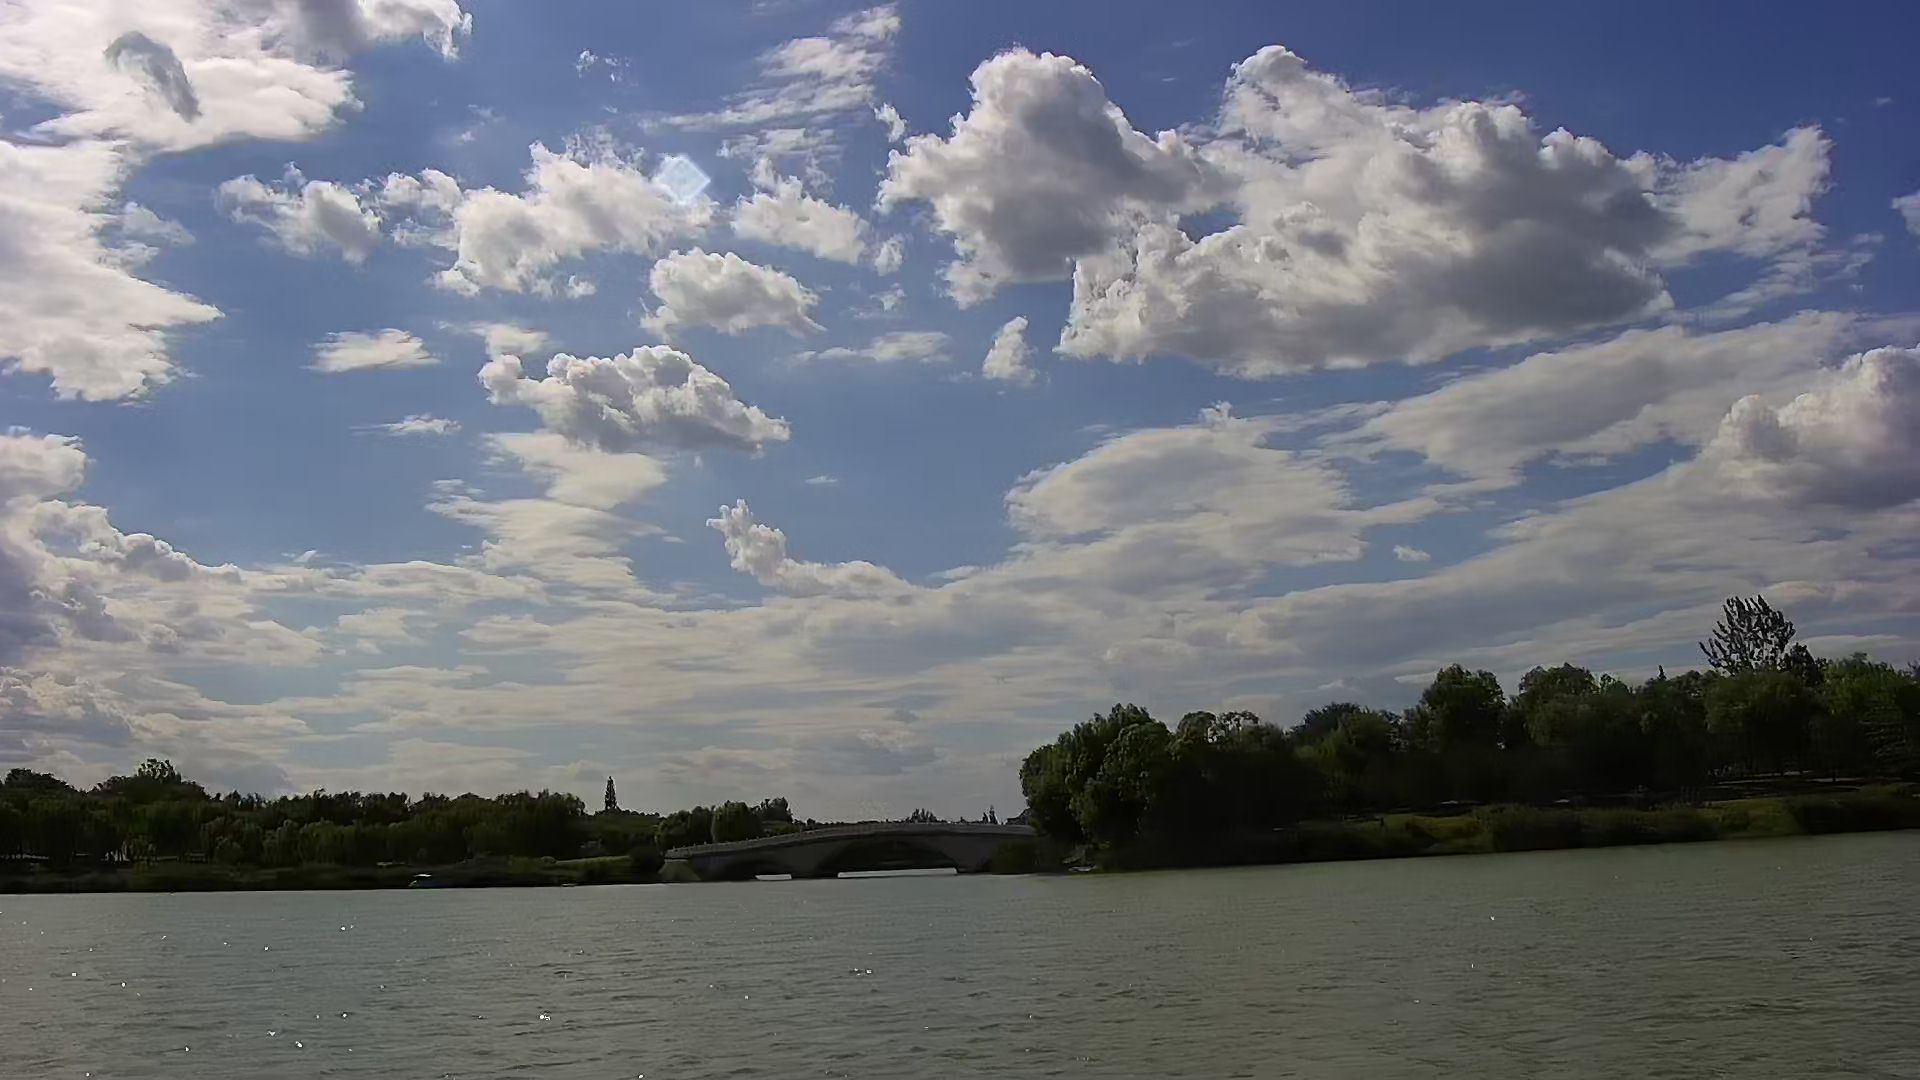bridge: (669, 814, 1034, 881)
